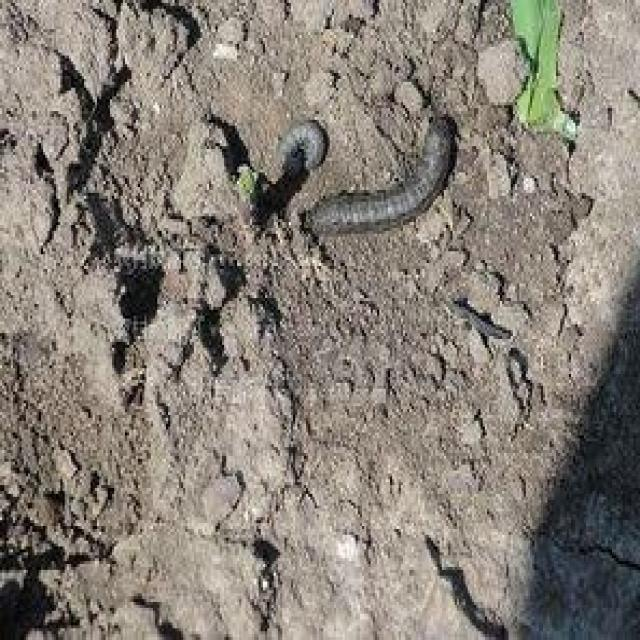black cutworm: (310, 119, 476, 257), (279, 121, 331, 179)
